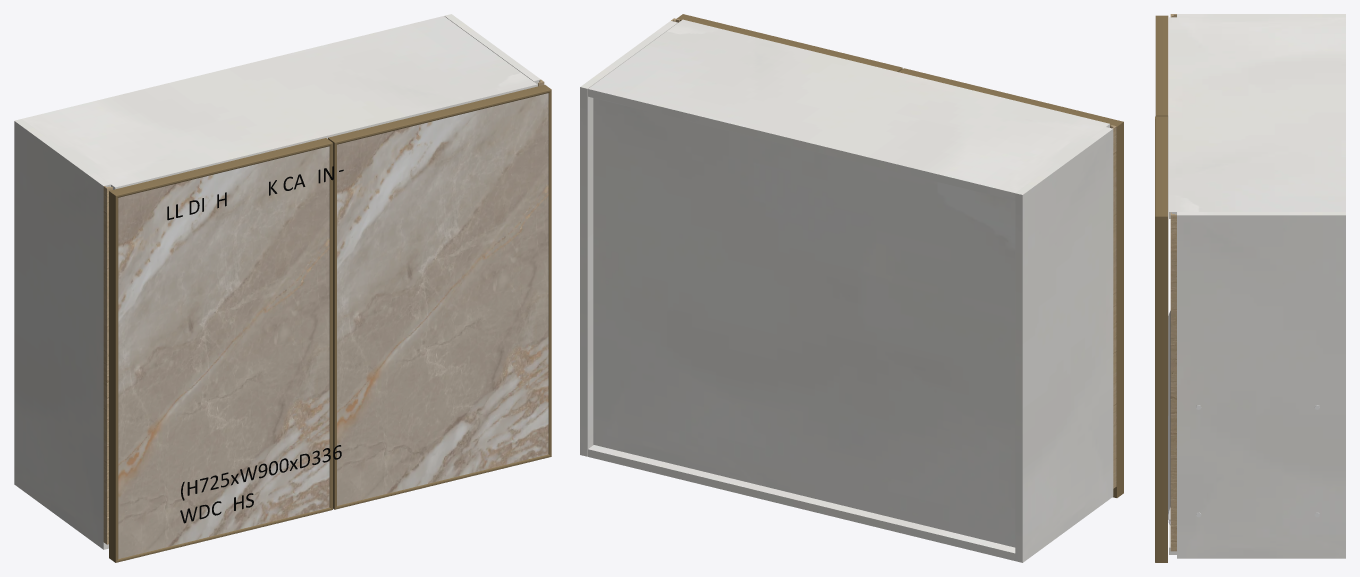
The model's file is WC-AC-NHX-ST-XXX-2HS-DSH-900-725-336-15.glb.
3 views of the same model, side by side, from view 1: azimuth 30°, elevation 25°; view 2: azimuth 150°, elevation 25°; view 3: azimuth 270°, elevation 25° (orthographic). The views are drawn at different scales.
Visible parts, largest first — view 1: Object_node_12, Object_node_10, TP, TP_node_0, Extrusion_node_1, Object_node_14, Extrusion, Extrusion_node_2, Extrusion_node_3, Extrusion_node_5, 2D text_node, Extrusion_node (+3 smaller); view 2: TP_node_2, TP, TP_node_0, TP_node, TP_node_1, Extrusion_node_1, Object_node_14, Extrusion_node_2, Extrusion; view 3: TP_node_1, TP, Extrusion_node_3, Object_node_22, Extrusion, Extrusion_node_2, TP_node_0, Shell_0_0, Extrusion_node.
Boxes of the visible parts, left/top/right/bottom form: Object_node_12: left=337, top=93, right=548, bottom=505; Object_node_10: left=118, top=146, right=329, bottom=558; TP: left=22, top=16, right=537, bottom=189; TP_node_0: left=14, top=119, right=110, bottom=549; Extrusion_node_1: left=109, top=191, right=118, bottom=562; Object_node_14: left=103, top=186, right=112, bottom=544; Extrusion: left=109, top=138, right=332, bottom=197; Extrusion_node_2: left=328, top=85, right=551, bottom=144; Extrusion_node_3: left=548, top=90, right=551, bottom=456; Extrusion_node_5: left=328, top=138, right=336, bottom=509; 2D text_node: left=180, top=445, right=341, bottom=523; Extrusion_node: left=329, top=143, right=332, bottom=509; TP_node_2: left=593, top=98, right=1015, bottom=547; TP: left=588, top=19, right=1109, bottom=200; TP_node_0: left=1015, top=127, right=1113, bottom=562; TP_node: left=588, top=445, right=1015, bottom=560; TP_node_1: left=580, top=21, right=677, bottom=456; Extrusion_node_1: left=1113, top=122, right=1123, bottom=497; Object_node_14: left=1110, top=125, right=1116, bottom=488; Extrusion_node_2: left=676, top=14, right=902, bottom=71; Extrusion: left=899, top=68, right=1123, bottom=126; TP_node_1: left=1177, top=212, right=1345, bottom=558; TP: left=1169, top=17, right=1345, bottom=218; Extrusion_node_3: left=1155, top=216, right=1167, bottom=562; Object_node_22: left=1170, top=212, right=1176, bottom=551; Extrusion: left=1155, top=15, right=1168, bottom=115; Extrusion_node_2: left=1155, top=116, right=1167, bottom=216; TP_node_0: left=1177, top=14, right=1345, bottom=17; Shell_0_0: left=1168, top=311, right=1170, bottom=520; Extrusion_node: left=1156, top=115, right=1168, bottom=415.
Size of what is drawn, in the model's own units: 0.901 by 0.725 by 0.366.
10 materials, 3 textured.
